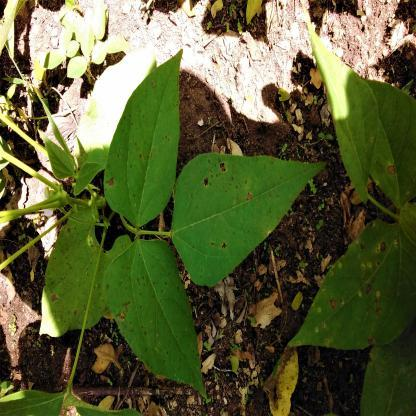Beans_Angular_LeafSpot: (172, 149, 316, 278), (105, 240, 202, 394), (310, 216, 404, 368), (103, 48, 183, 223), (39, 221, 132, 339), (354, 118, 392, 209)
